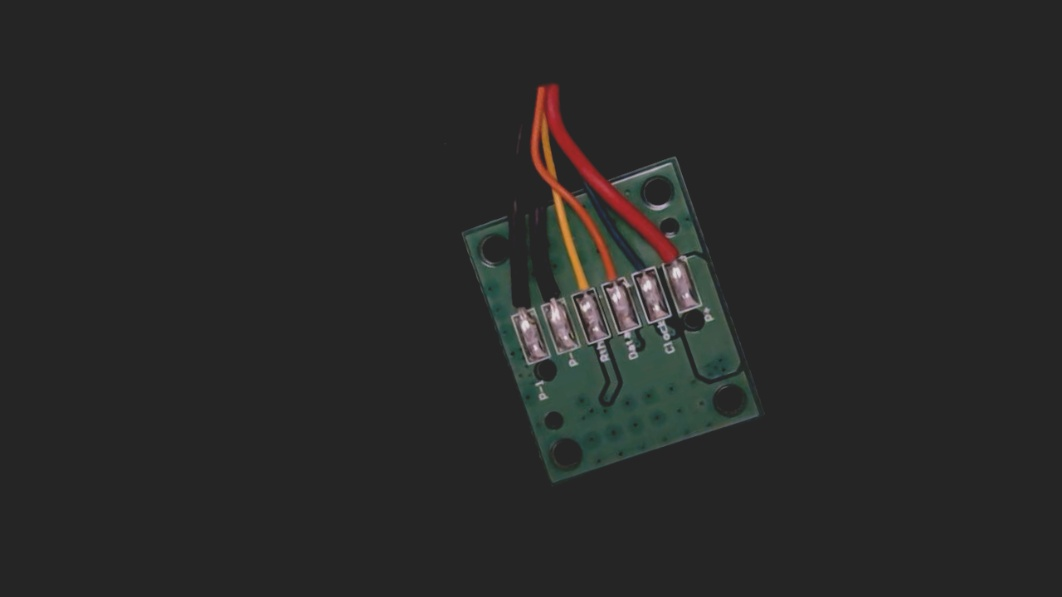Black: (524, 258, 570, 325)
Black1: (494, 272, 538, 333)
Green: (618, 236, 660, 291)
Orange: (584, 236, 629, 301)
Red: (645, 216, 691, 280)
Yellow: (555, 244, 603, 311)
